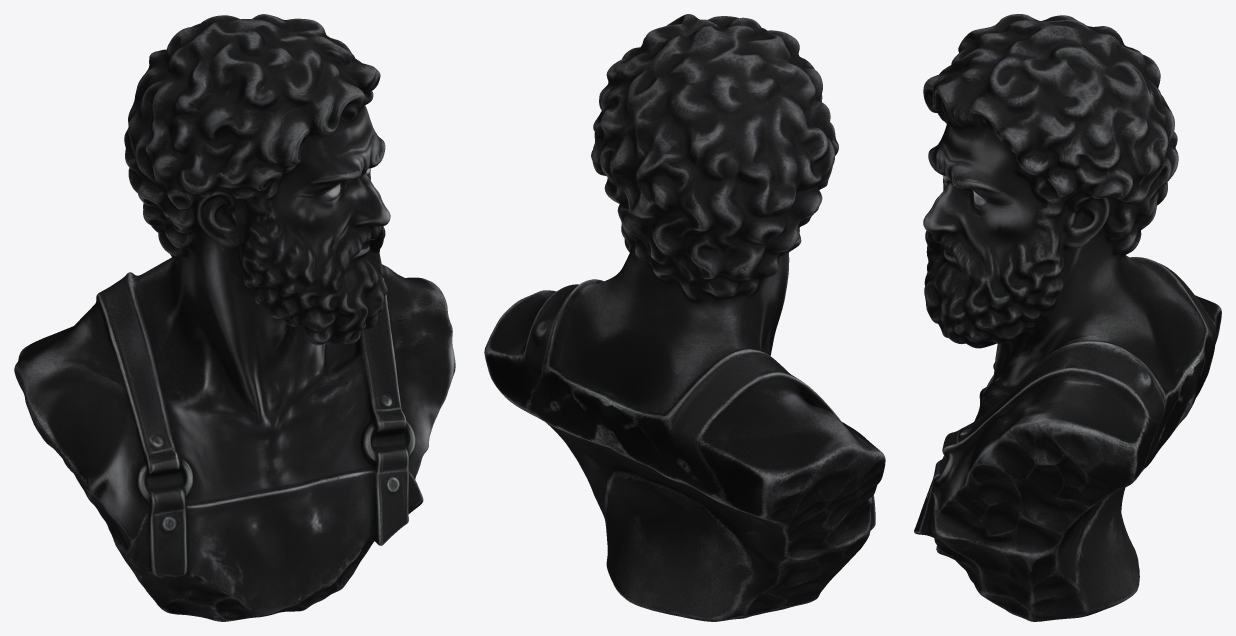
The model's file is HEFESTO_FABRICA.glb.
3 views of the same model, side by side, from view 1: azimuth 30°, elevation 25°; view 2: azimuth 150°, elevation 25°; view 3: azimuth 270°, elevation 25° (orthographic). The views are drawn at different scales.
Parts seen in each view (by area): view 1: mesh_node; view 2: mesh_node; view 3: mesh_node.
Boxes of the visible parts, box(x1,y1,x2,y2) form: mesh_node: box(14, 14, 455, 621); mesh_node: box(484, 14, 885, 621); mesh_node: box(914, 14, 1221, 621).
Size of the model in its own units: 1.36 by 1.9 by 0.9574.
Materials: 1 (1 with a texture image).
